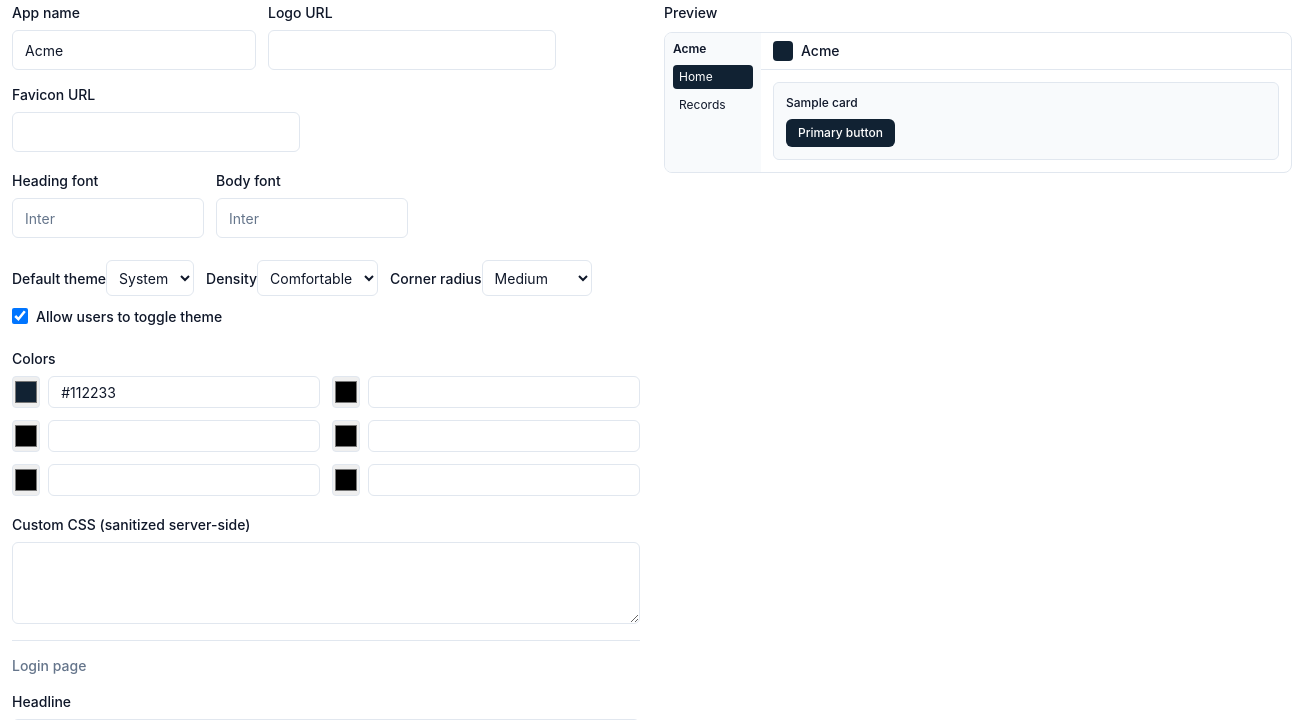
Test: BrandingSettings › blocks save on an invalid hex color
This screenshot has width=1292, height=720.
Replace the text in the field named "Primary hex" with "nope" at [184, 392], box [48,376,320,408]
(page scrolled)
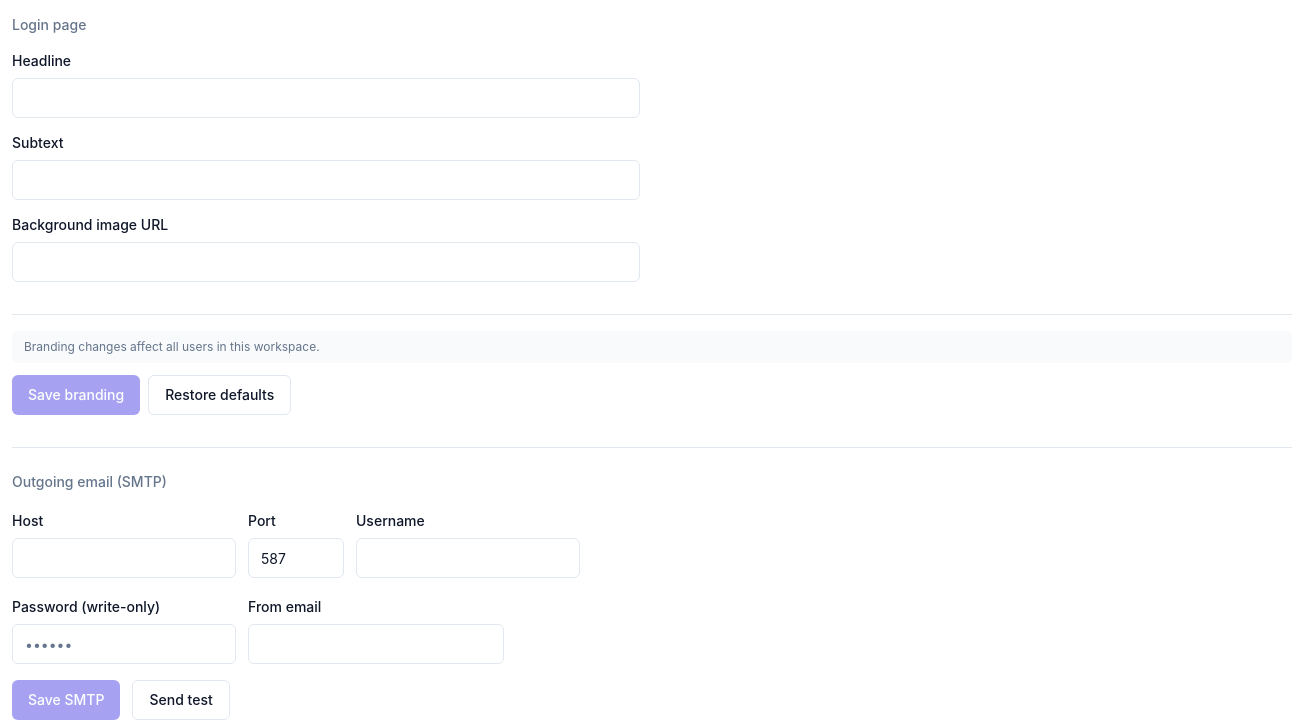
Now the button "Save branding" is disabled, box [12,375,140,415]
